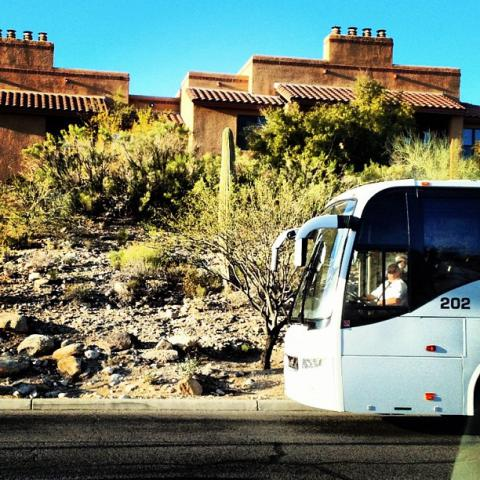bus: (266, 177, 479, 418)
